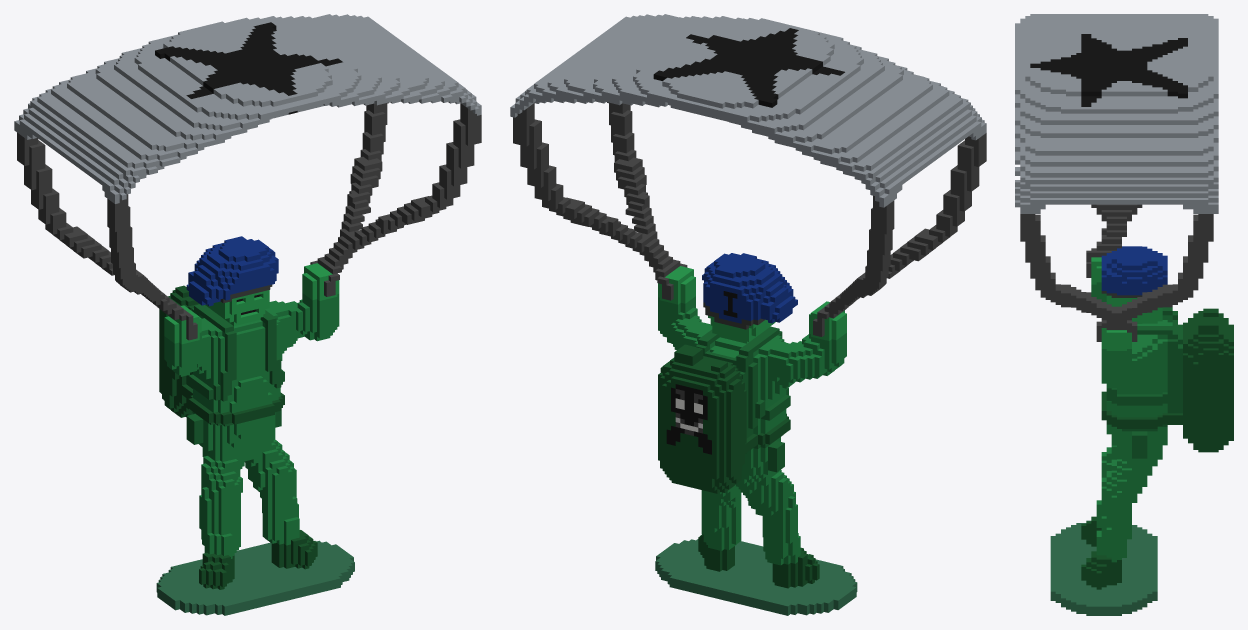
Rendered from parachote_soldier_v3_sniper.obj.
3 views of the same model, side by side, from view 1: azimuth 30°, elevation 25°; view 2: azimuth 150°, elevation 25°; view 3: azimuth 270°, elevation 25° (orthographic). The views are drawn at different scales.
Size of the model in its own units: 8.2 by 11 by 4.3.
Materials: 1 (1 with a texture image).
